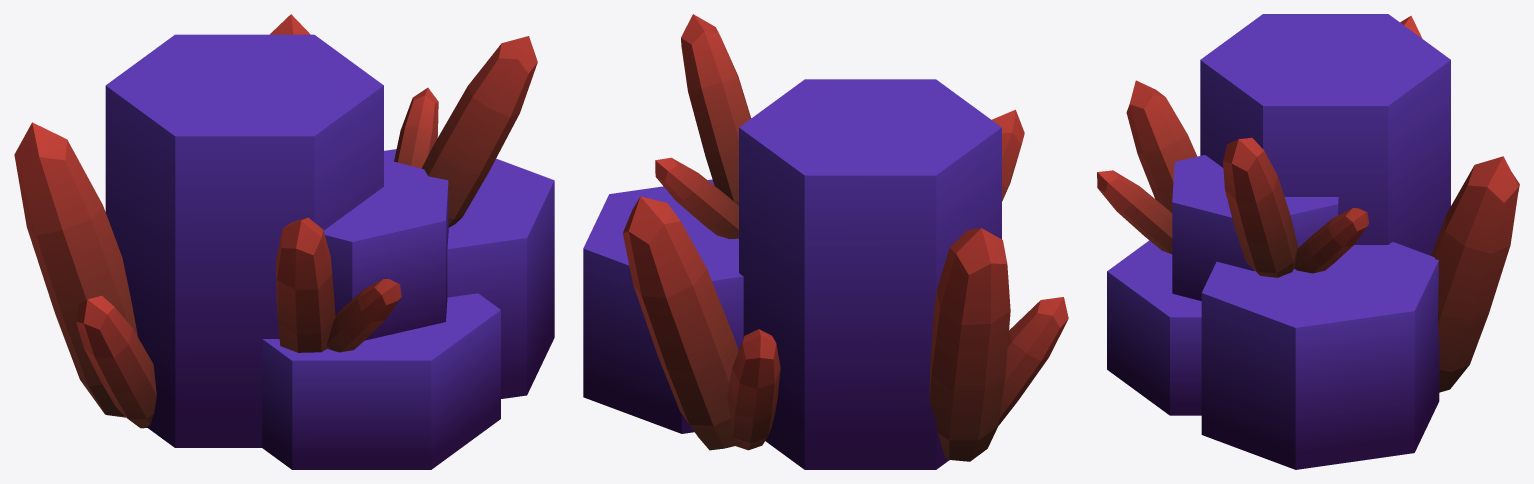
File: anp_rock_4.fbx
3 views of the same model, side by side, from view 1: azimuth 30°, elevation 25°; view 2: azimuth 150°, elevation 25°; view 3: azimuth 270°, elevation 25° (orthographic). The views are drawn at different scales.
Parts seen in each view (by area): view 1: rock4; view 2: rock4; view 3: rock4.
Boxes of the visible parts, x1,y1,x2,y2 form: rock4: (14,14,554,469); rock4: (583,14,1068,469); rock4: (1097,14,1519,469).
Size of the model in its own units: 147 by 102 by 125.
